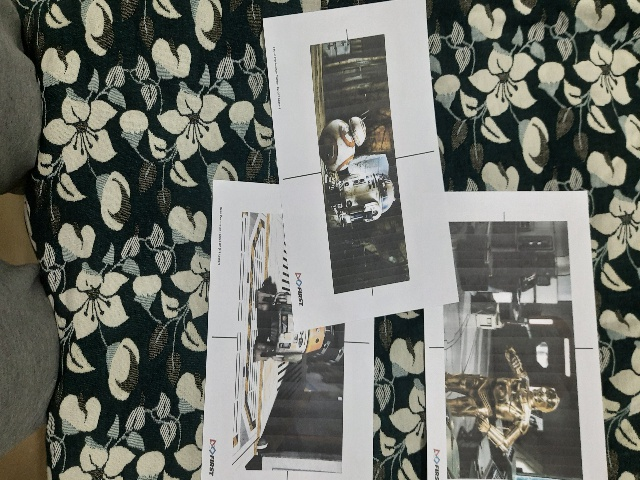fpt2: (280, 32, 430, 291)
rept2: (244, 211, 359, 478)
rpt1: (434, 208, 593, 480)
